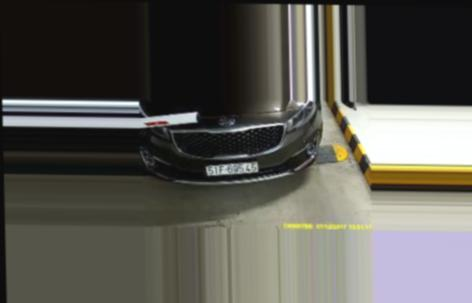License_Plate: (203, 160, 264, 179)
